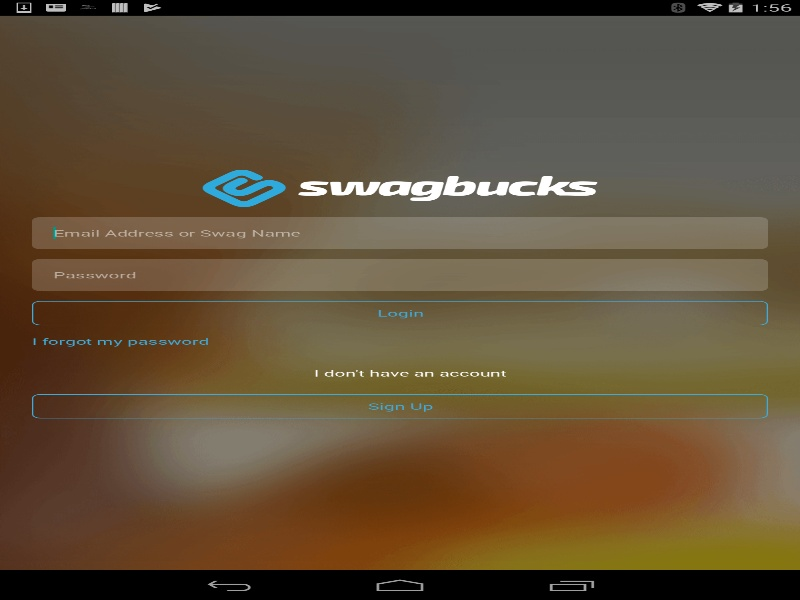Input: (32, 217, 768, 249), (32, 259, 768, 290)
